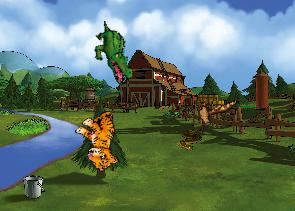crocodile: (80, 19, 147, 87)
eagle: (184, 82, 239, 141)
tiger: (68, 105, 135, 174)
